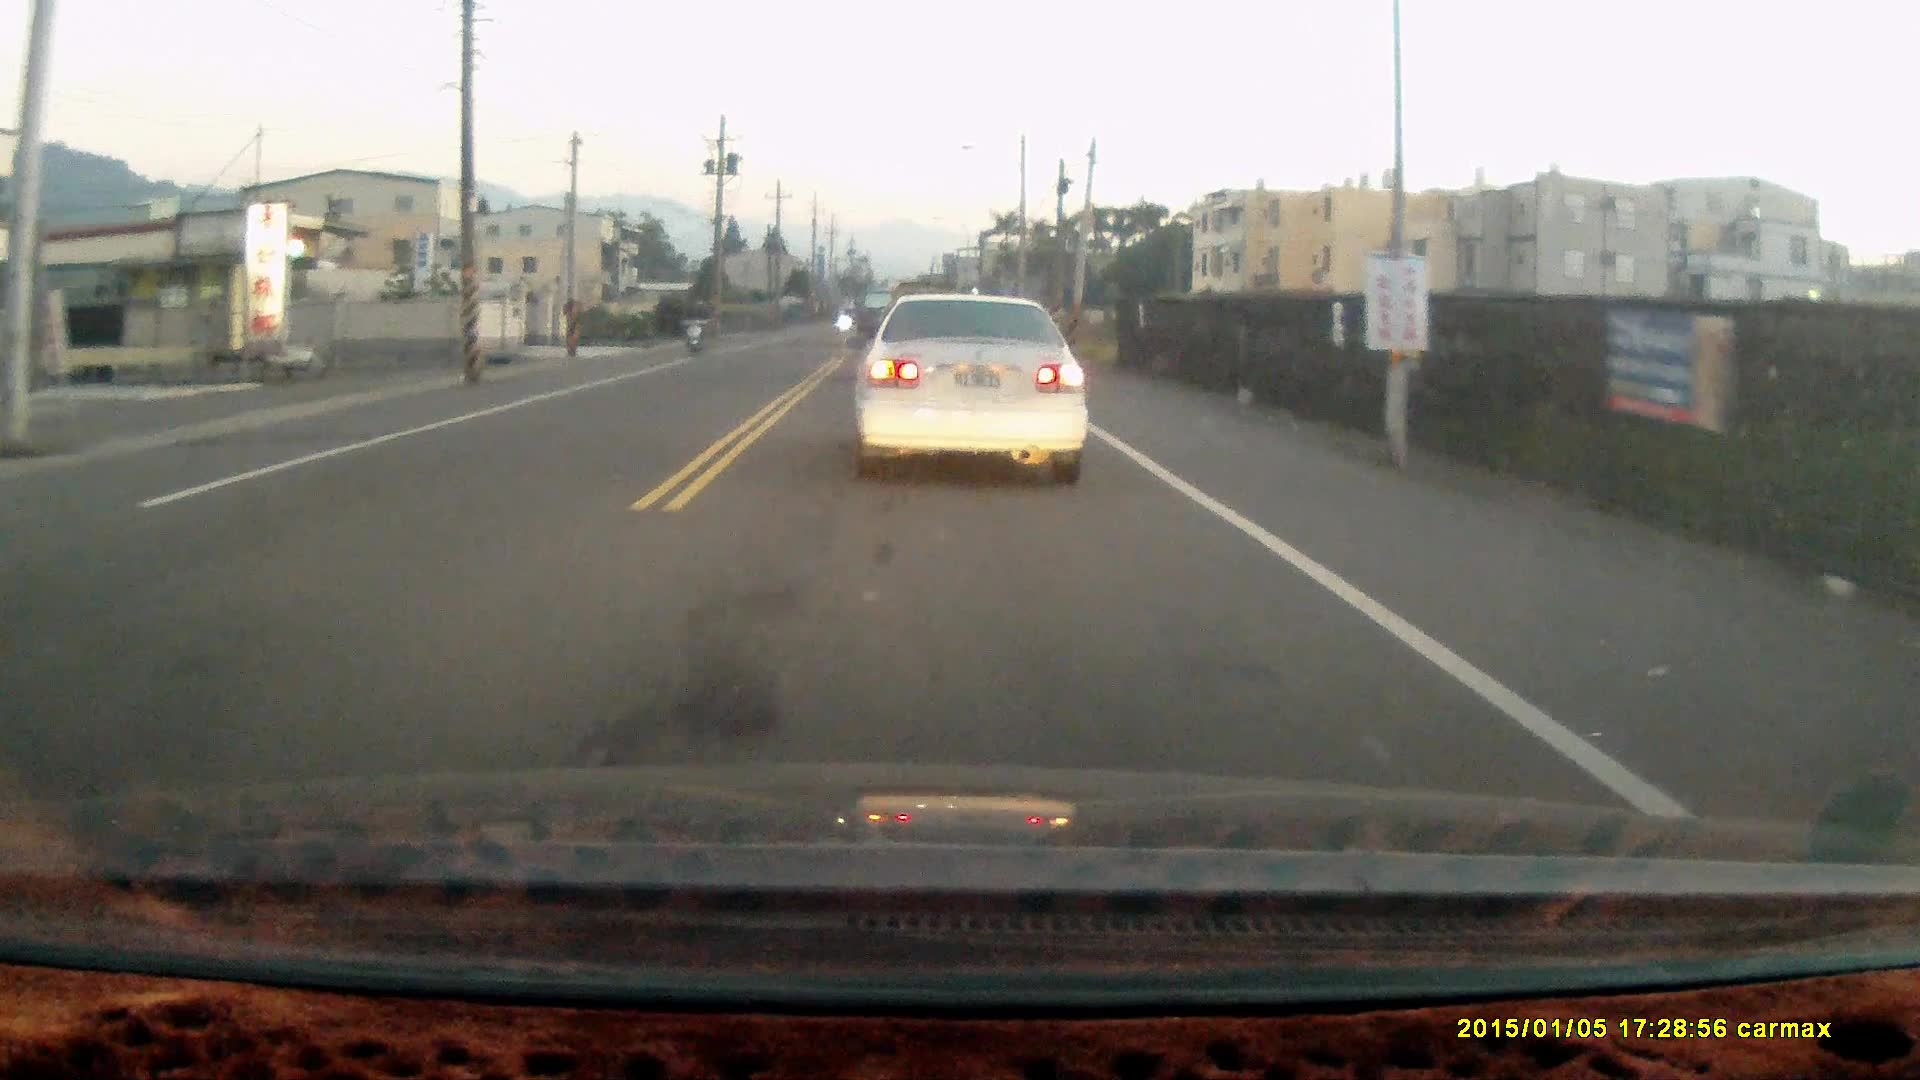rider: (681, 292, 708, 351)
vehicle: (852, 289, 1093, 489)
